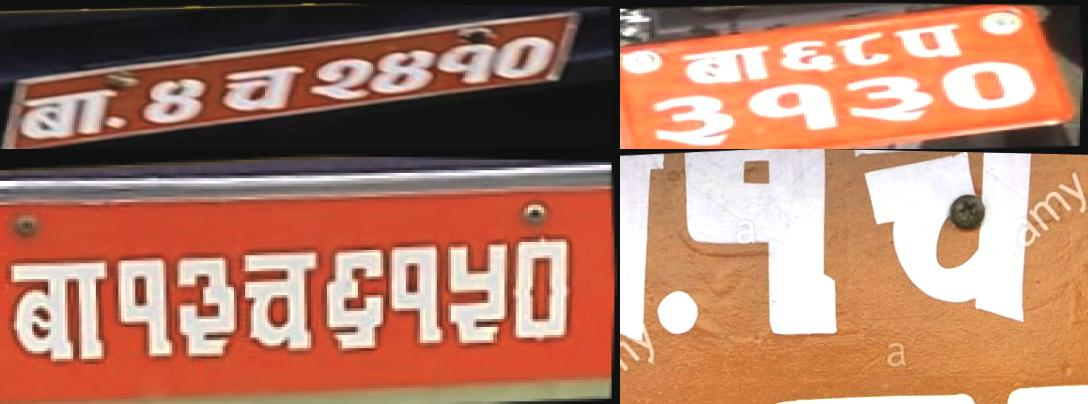0: (744, 362, 1003, 404), (507, 226, 587, 350), (939, 58, 1037, 108), (491, 32, 570, 80)
1: (664, 149, 862, 356), (106, 246, 186, 364), (383, 236, 454, 354), (746, 81, 843, 128), (433, 40, 506, 90)
2: (303, 56, 382, 105)
3: (168, 246, 251, 367), (842, 72, 940, 126), (652, 94, 736, 143)
4: (137, 73, 216, 124), (366, 46, 444, 95)
5: (442, 231, 519, 351)
6: (318, 240, 395, 358), (778, 39, 835, 73)
8: (832, 31, 892, 66)
ba: (0, 246, 118, 373), (620, 149, 688, 369), (16, 86, 124, 140), (683, 45, 774, 88)
cha: (839, 149, 1079, 350), (236, 242, 330, 360), (214, 61, 309, 112)
pa: (892, 22, 967, 58)
